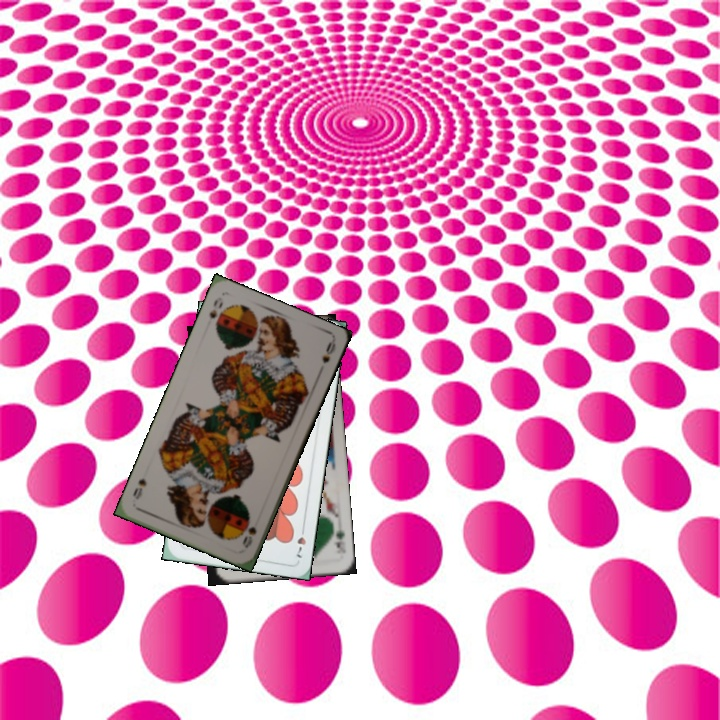GK: (330, 525, 349, 556)
H7: (292, 521, 309, 560)
SO: (205, 295, 226, 328), (238, 522, 259, 551)
